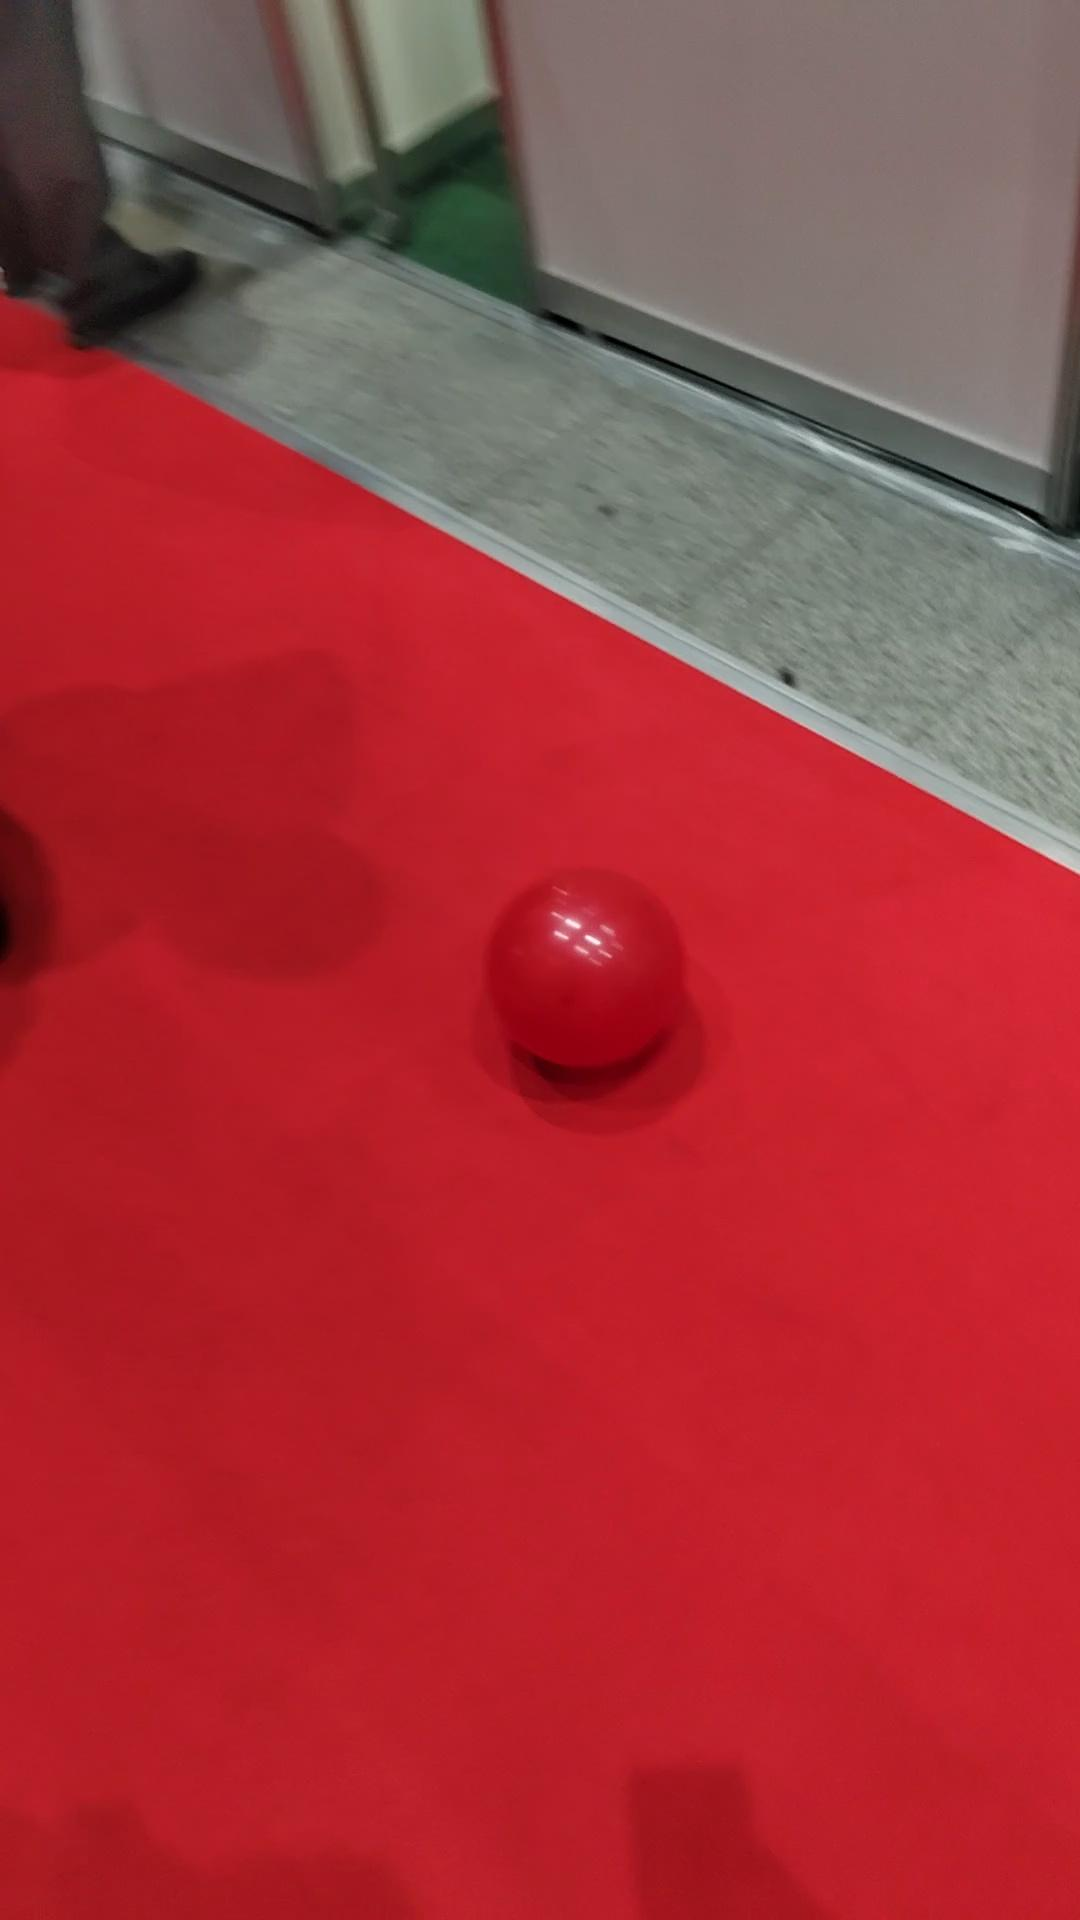red: (484, 869, 680, 1071)
